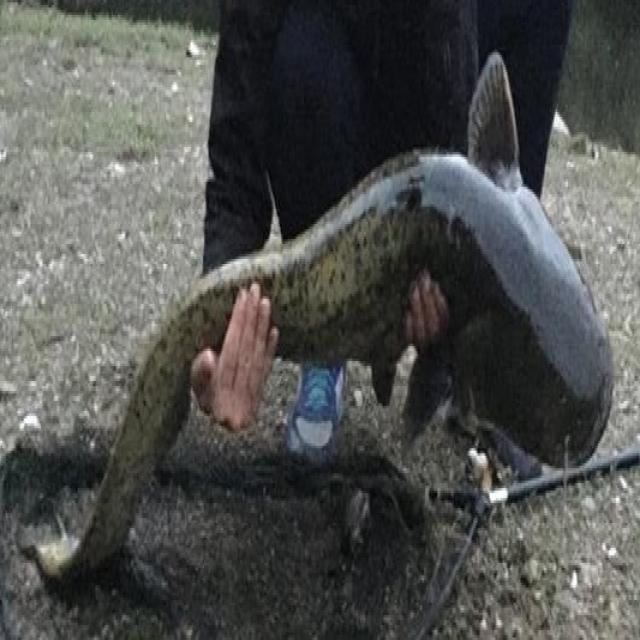Catfish: (40, 68, 634, 624)
